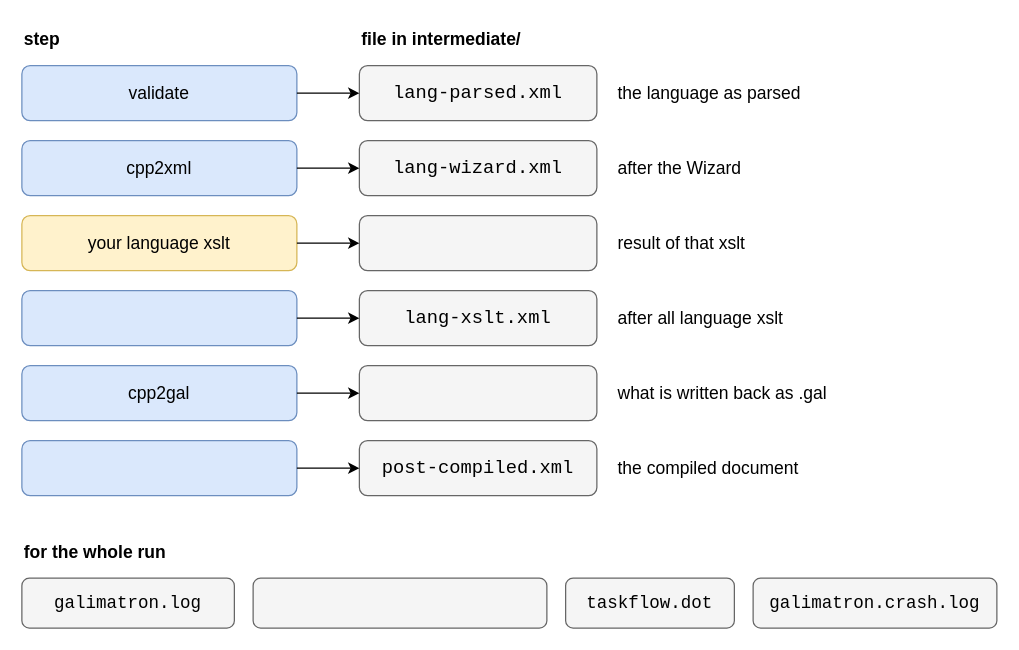
This 1019x650 diagram has some shape labels left out. The shapes that lost their labels are listed below. From the top down, each one's centre as x and y in pixels, then its label:
At [477,242]: "the file you name".
At [159,317]: "xml2cpp".
At [477,392]: "lang-final.xml".
At [159,467]: "post_cpp2post_xml".
At [399,602]: "galimatron_summary.xml".
